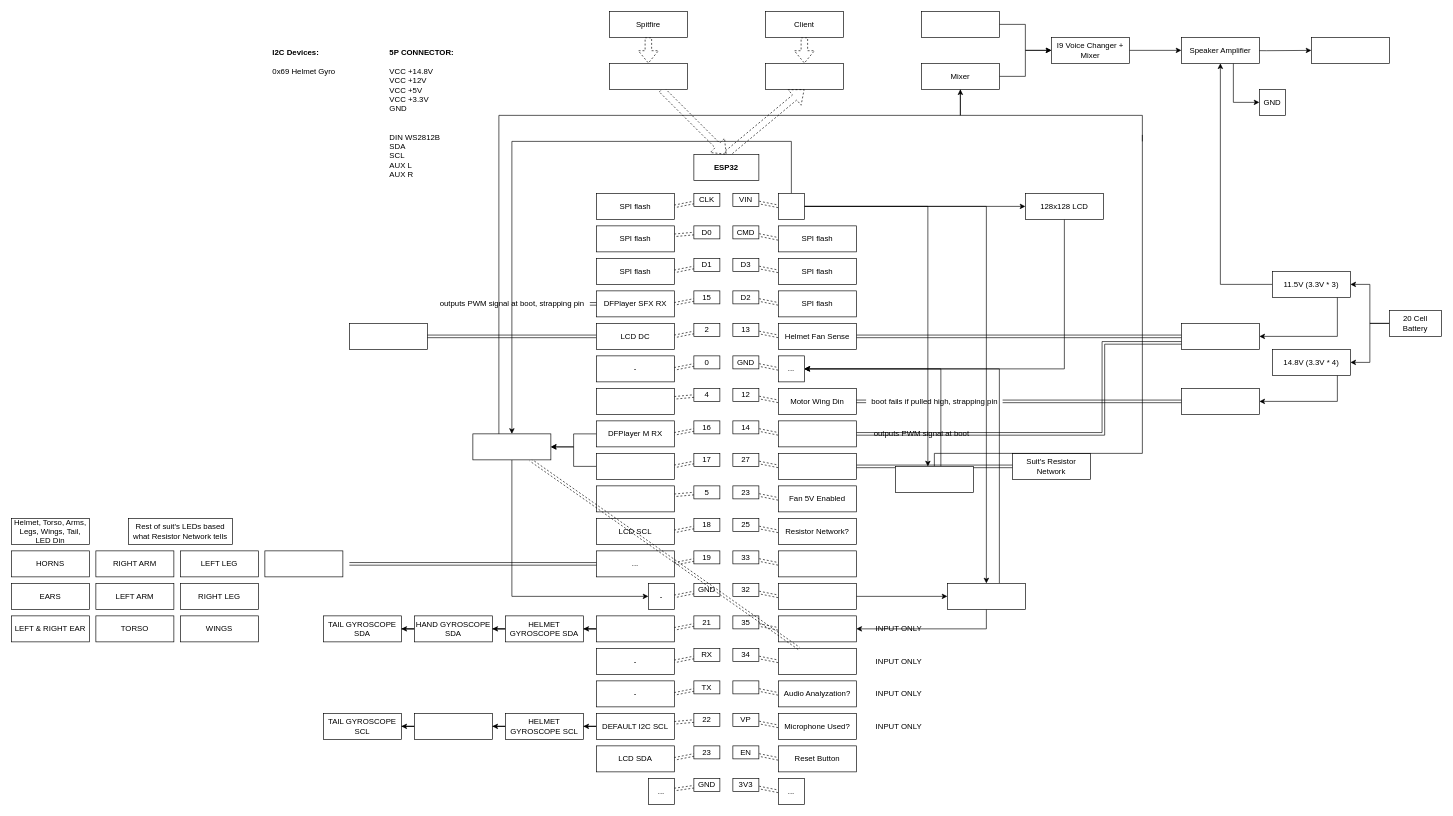
This 1453x816 diagram has some shape labels left out. The shapes that lost their labels are listed below. From the top down, each one's centre as x and y in pixels, then its label:
pixel 960 24: Mic
pixel 1350 50: Suit's Speakers
pixel 648 76: Access Point
pixel 804 76: Webserver
pixel 791 206: 5V
pixel 388 336: Helmet Matrix Pin
pixel 1220 336: Helmet Fan
pixel 635 401: LCD Rst
pixel 1220 401: Drill Wing Motor Driver
pixel 511 446: DFPlayer M
pixel 817 433: DFPlayer SFX TX
pixel 635 466: DFPlayer M TX
pixel 817 466: Fan Speed PWM
pixel 934 479: DFPlayer SFX
pixel 635 498: LCD CS
pixel 303 563: TAIL
pixel 817 563: Helmet Matrix Din
pixel 817 596: Ultrasonic Trigger
pixel 986 596: Ultrasonic Sensor
pixel 635 628: DEFAULT I2C SDA
pixel 817 628: Ultrasonic Echo
pixel 817 661: DFPlayer M IsPlaying
pixel 745 687: VN
pixel 453 726: HAND GYROSCOPE SCL
